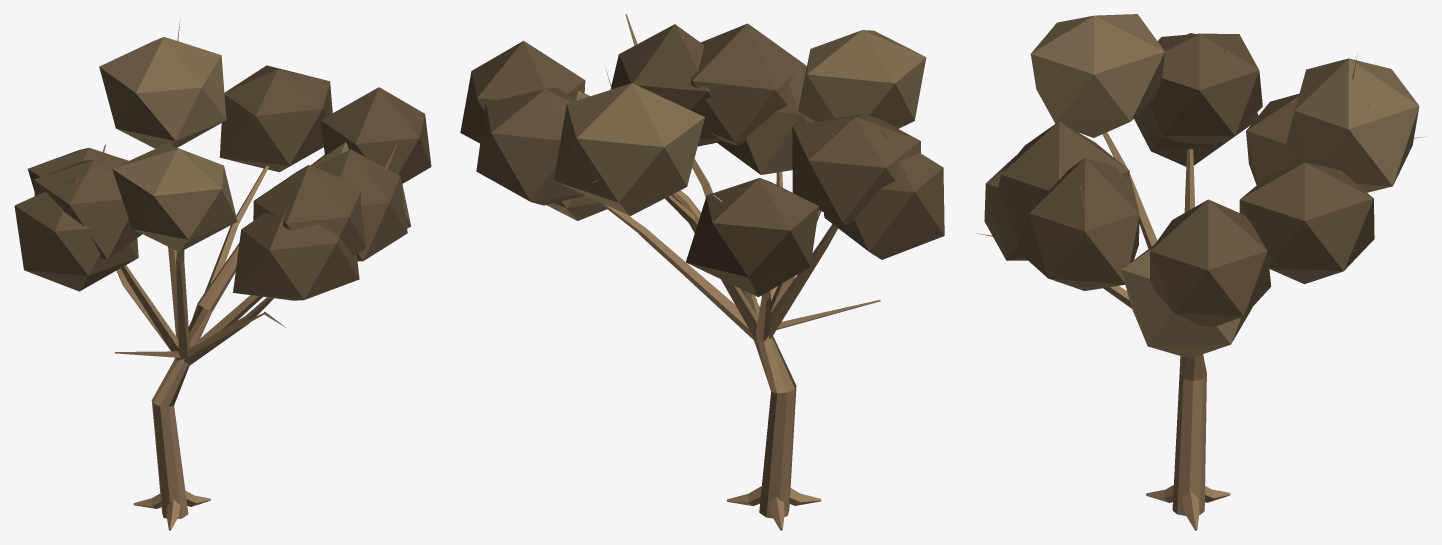
Rendered from oak_winter_03.glb.
3 renders of one model, left to right at view 1: azimuth 30°, elevation 25°; view 2: azimuth 150°, elevation 25°; view 3: azimuth 270°, elevation 25°, orthographic. The views are drawn at different scales.
Visible parts, largest first — view 1: Oak_winter_03; view 2: Oak_winter_03; view 3: Oak_winter_03.
Part boxes in pixels (box(x1,y1,x2,y2)): Oak_winter_03: box(14, 17, 431, 530); Oak_winter_03: box(460, 14, 944, 530); Oak_winter_03: box(976, 14, 1424, 530).
Bounding box in the file's own units: 13.76 × 13.8 × 11.28.
